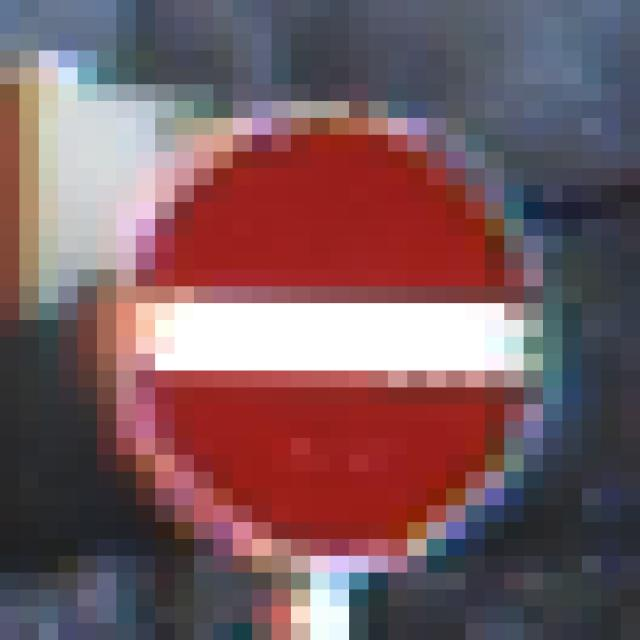No Entry: (117, 102, 544, 557)
